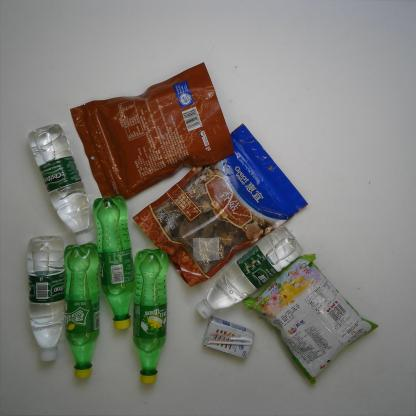Dried Food: (133, 123, 308, 286), (68, 63, 236, 200)
Drink: (197, 224, 302, 320), (26, 124, 94, 246), (93, 196, 135, 330), (62, 244, 100, 380), (24, 236, 64, 363), (131, 248, 168, 385)
Milk: (202, 316, 254, 358)
Puffed Food: (243, 254, 378, 382)
